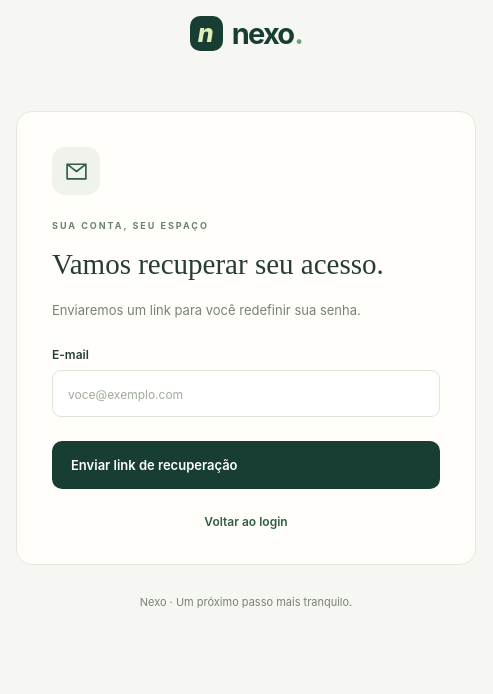
Scenario: recuperação de acesso › solicita um link autorizado e usa resposta genérica
Type "aluno@example.com" into the field labelled "E-mail" at (246, 394), box [52,370,440,417]
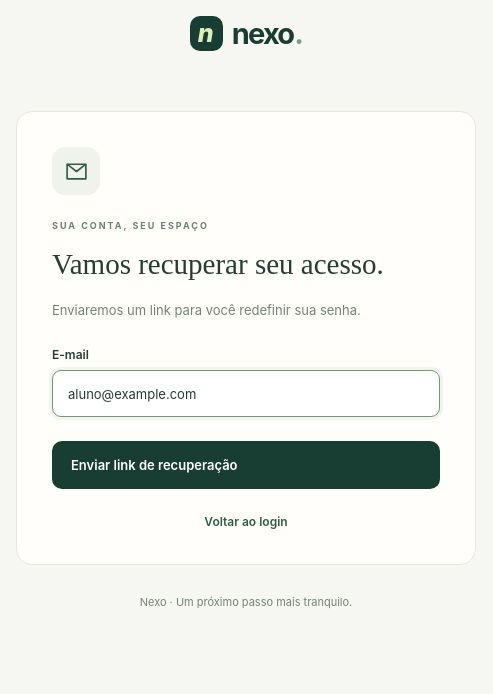
Click the button "Enviar link de recuperação" at (154, 465), box [52,441,440,489]
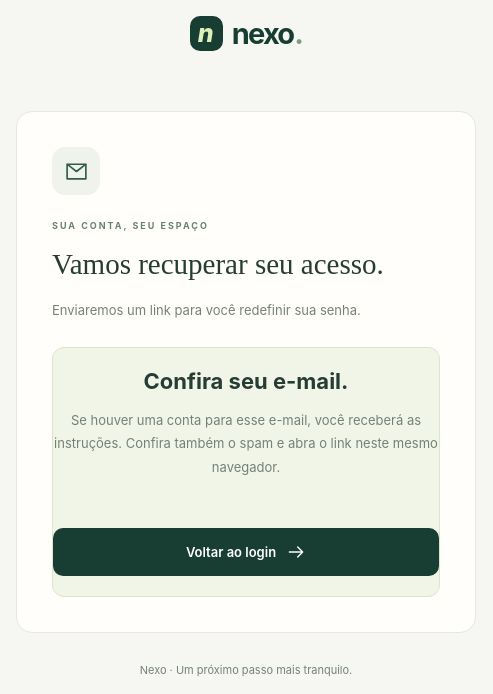
Expected: the text "Se houver uma conta" is shown, [54,412,438,475]
